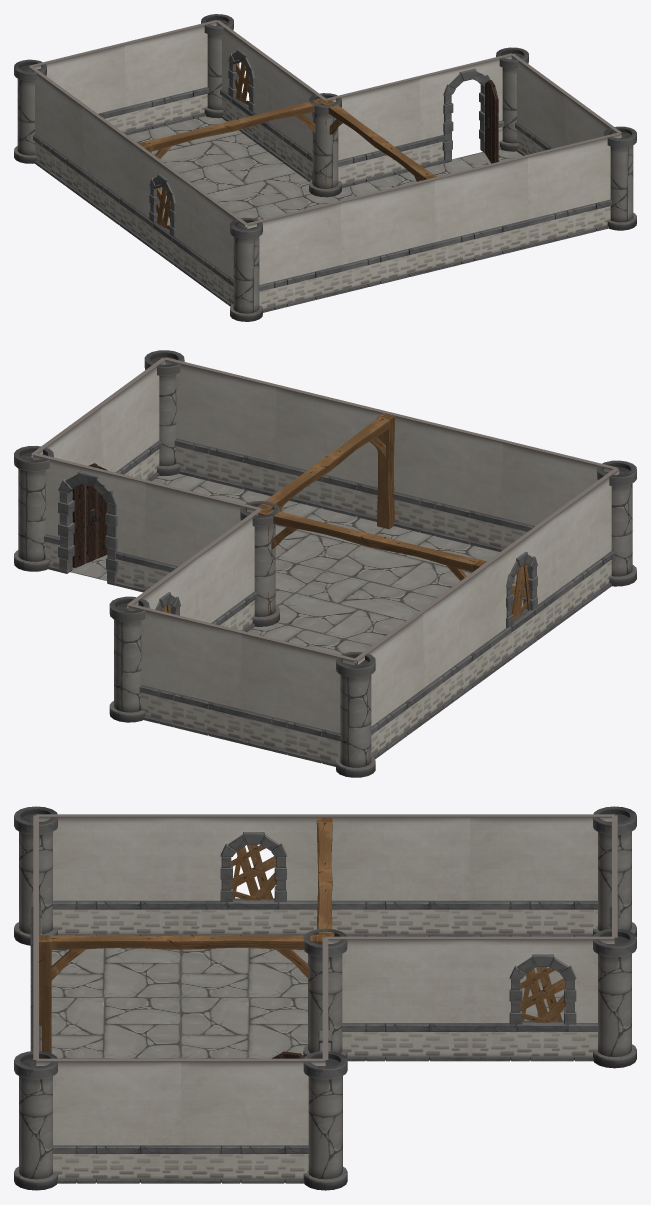
The model's file is SM_cornerRoom.fbx.
3 renders of one model, top to bottom at view 1: azimuth 30°, elevation 25°; view 2: azimuth 150°, elevation 25°; view 3: azimuth 270°, elevation 25°, orthographic. The views are drawn at different scales.
Visible parts, largest first — view 1: SM_wall44, SM_wall54, SM_wall45, SM_wall57, SM_wall55, SM_wall56, SM_wall62, SM_wallWindow15, SM_wallDoor4, SM_floor74, SM_wall61, SM_wall58 (+18 smaller); view 2: SM_wall54, SM_wall57, SM_wall45, SM_wall58, SM_wall44, SM_wallDoor4, SM_wall62, SM_wallWindow15, SM_floor77, SM_wall63, SM_wall56, SM_wall55 (+19 smaller); view 3: SM_wall62, SM_wallWindow15, SM_wall64, SM_wall65, SM_wall60, SM_wallWindow14, SM_wall61, SM_wall63, SM_floor76, SM_floor77, SM_floor78, SM_floor79 (+12 smaller).
Boxes of the visible parts, left/top/right/bottom form: SM_wall44: left=433, top=155, right=528, bottom=270; SM_wall54: left=339, top=178, right=435, bottom=293; SM_wall45: left=526, top=133, right=621, bottom=247; SM_wall57: left=123, top=20, right=217, bottom=135; SM_wall55: left=245, top=201, right=341, bottom=312; SM_wall56: left=325, top=76, right=420, bottom=188; SM_wall62: left=80, top=105, right=139, bottom=236; SM_wallWindow15: left=134, top=145, right=193, bottom=275; SM_wallDoor4: left=418, top=53, right=511, bottom=168; SM_floor74: left=179, top=151, right=310, bottom=212; SM_wall61: left=28, top=66, right=85, bottom=196; SM_wall58: left=29, top=43, right=125, bottom=133; SM_wall54: left=389, top=412, right=504, bottom=551; SM_wall57: left=128, top=604, right=243, bottom=743; SM_wall45: left=165, top=357, right=278, bottom=496; SM_wall58: left=240, top=631, right=356, bottom=766; SM_wall44: left=275, top=385, right=391, bottom=521; SM_wallDoor4: left=32, top=453, right=147, bottom=592; SM_wall62: left=419, top=563, right=490, bottom=721; SM_wallWindow15: left=484, top=516, right=556, bottom=674; SM_floor77: left=277, top=570, right=436, bottom=645; SM_wall63: left=550, top=468, right=619, bottom=626; SM_wall56: left=144, top=480, right=261, bottom=591; SM_wall55: left=501, top=440, right=618, bottom=550; SM_wall62: left=325, top=814, right=469, bottom=936; SM_wallWindow15: left=181, top=814, right=325, bottom=935; SM_wall64: left=36, top=1058, right=180, bottom=1183; SM_wall65: left=181, top=1058, right=325, bottom=1183; SM_wall60: left=325, top=936, right=469, bottom=1061; SM_wallWindow14: left=470, top=936, right=614, bottom=1061; SM_wall61: left=470, top=814, right=614, bottom=936; SM_wall63: left=36, top=814, right=180, bottom=935; SM_floor76: left=51, top=997, right=180, bottom=1058; SM_floor77: left=181, top=997, right=307, bottom=1058; SM_floor78: left=51, top=948, right=180, bottom=997; SM_floor79: left=181, top=948, right=307, bottom=997.
Bounding box in the file's own units: 26.04 × 5.59 × 26.04.
